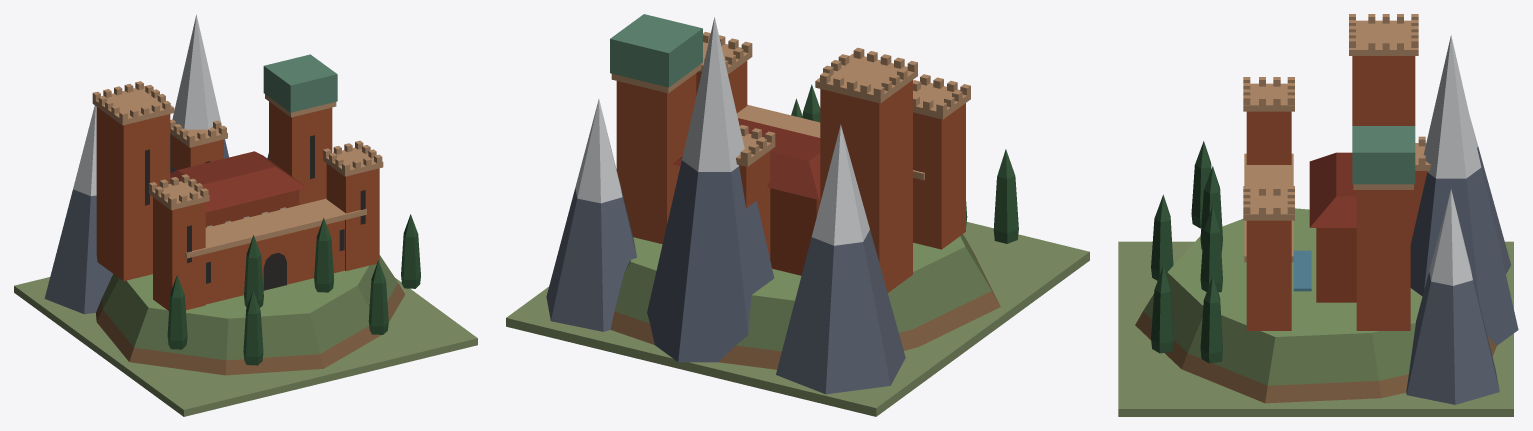
Rendered from alhambra.glb.
The picture shows the model from 3 angles, left to right: view 1: azimuth 30°, elevation 25°; view 2: azimuth 150°, elevation 25°; view 3: azimuth 270°, elevation 25°; orthographic projection. The views are drawn at different scales.
Parts seen in each view (by area): view 1: alhambra; view 2: alhambra; view 3: alhambra.
Boxes of the visible parts, box(x1,y1,x2,y2) form: alhambra: box(14, 14, 477, 416); alhambra: box(506, 14, 1089, 416); alhambra: box(1118, 14, 1518, 416).
Size of the model in its own units: 1.76 by 1.49 by 1.78.
